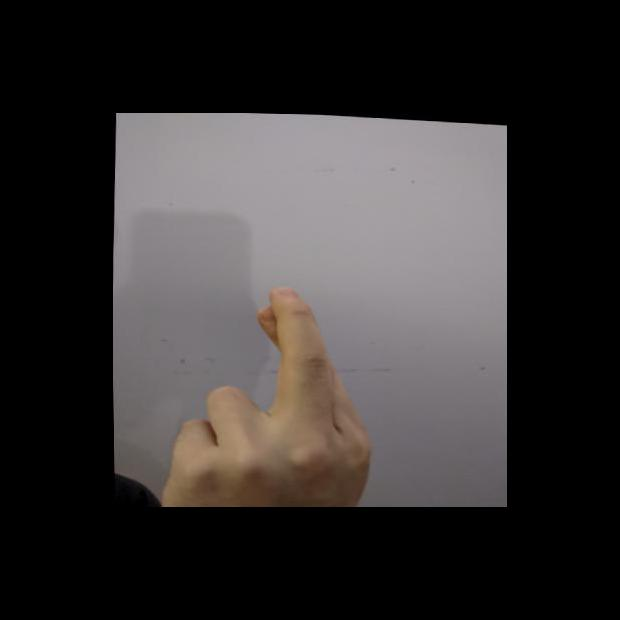Q: (149, 273, 384, 506)
